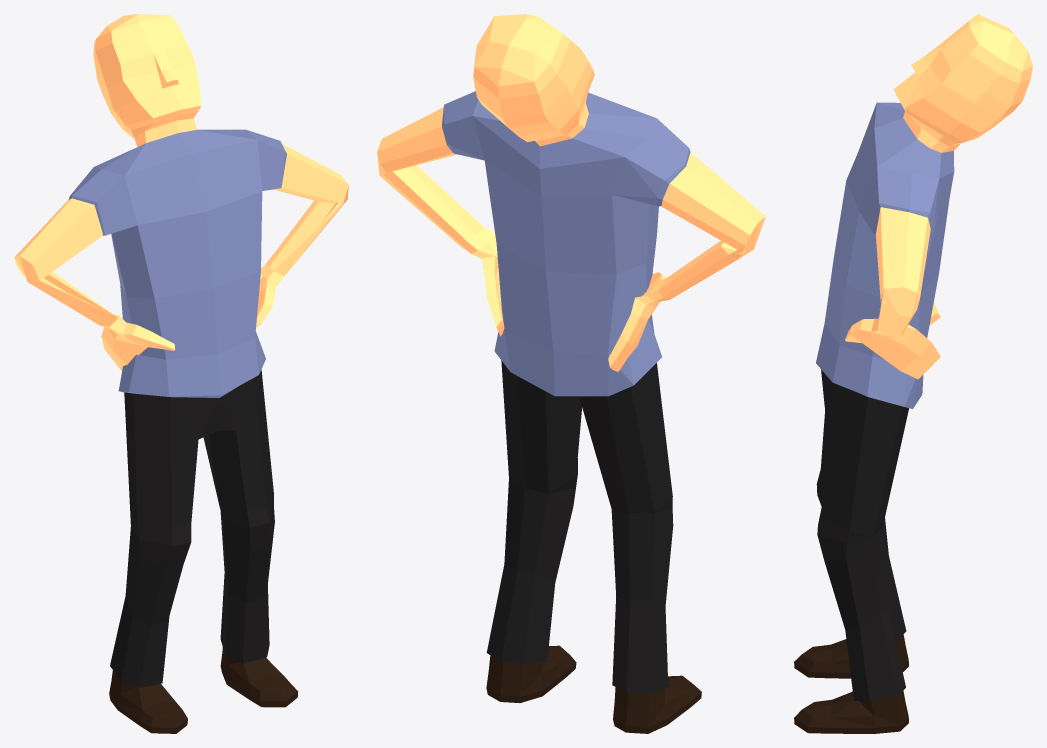
Rendered from male_looking_up.glb.
The picture shows the model from 3 angles, left to right: view 1: azimuth 30°, elevation 25°; view 2: azimuth 150°, elevation 25°; view 3: azimuth 270°, elevation 25°; orthographic projection. The views are drawn at different scales.
Parts seen in each view (by area): view 1: Looking_Up; view 2: Looking_Up; view 3: Looking_Up.
Boxes of the visible parts, bbox=[...] form: Looking_Up: bbox=[14, 14, 348, 733]; Looking_Up: bbox=[377, 14, 765, 733]; Looking_Up: bbox=[794, 14, 1032, 733].
Bounding box in the file's own units: 0.9969 × 1.85 × 0.594.
